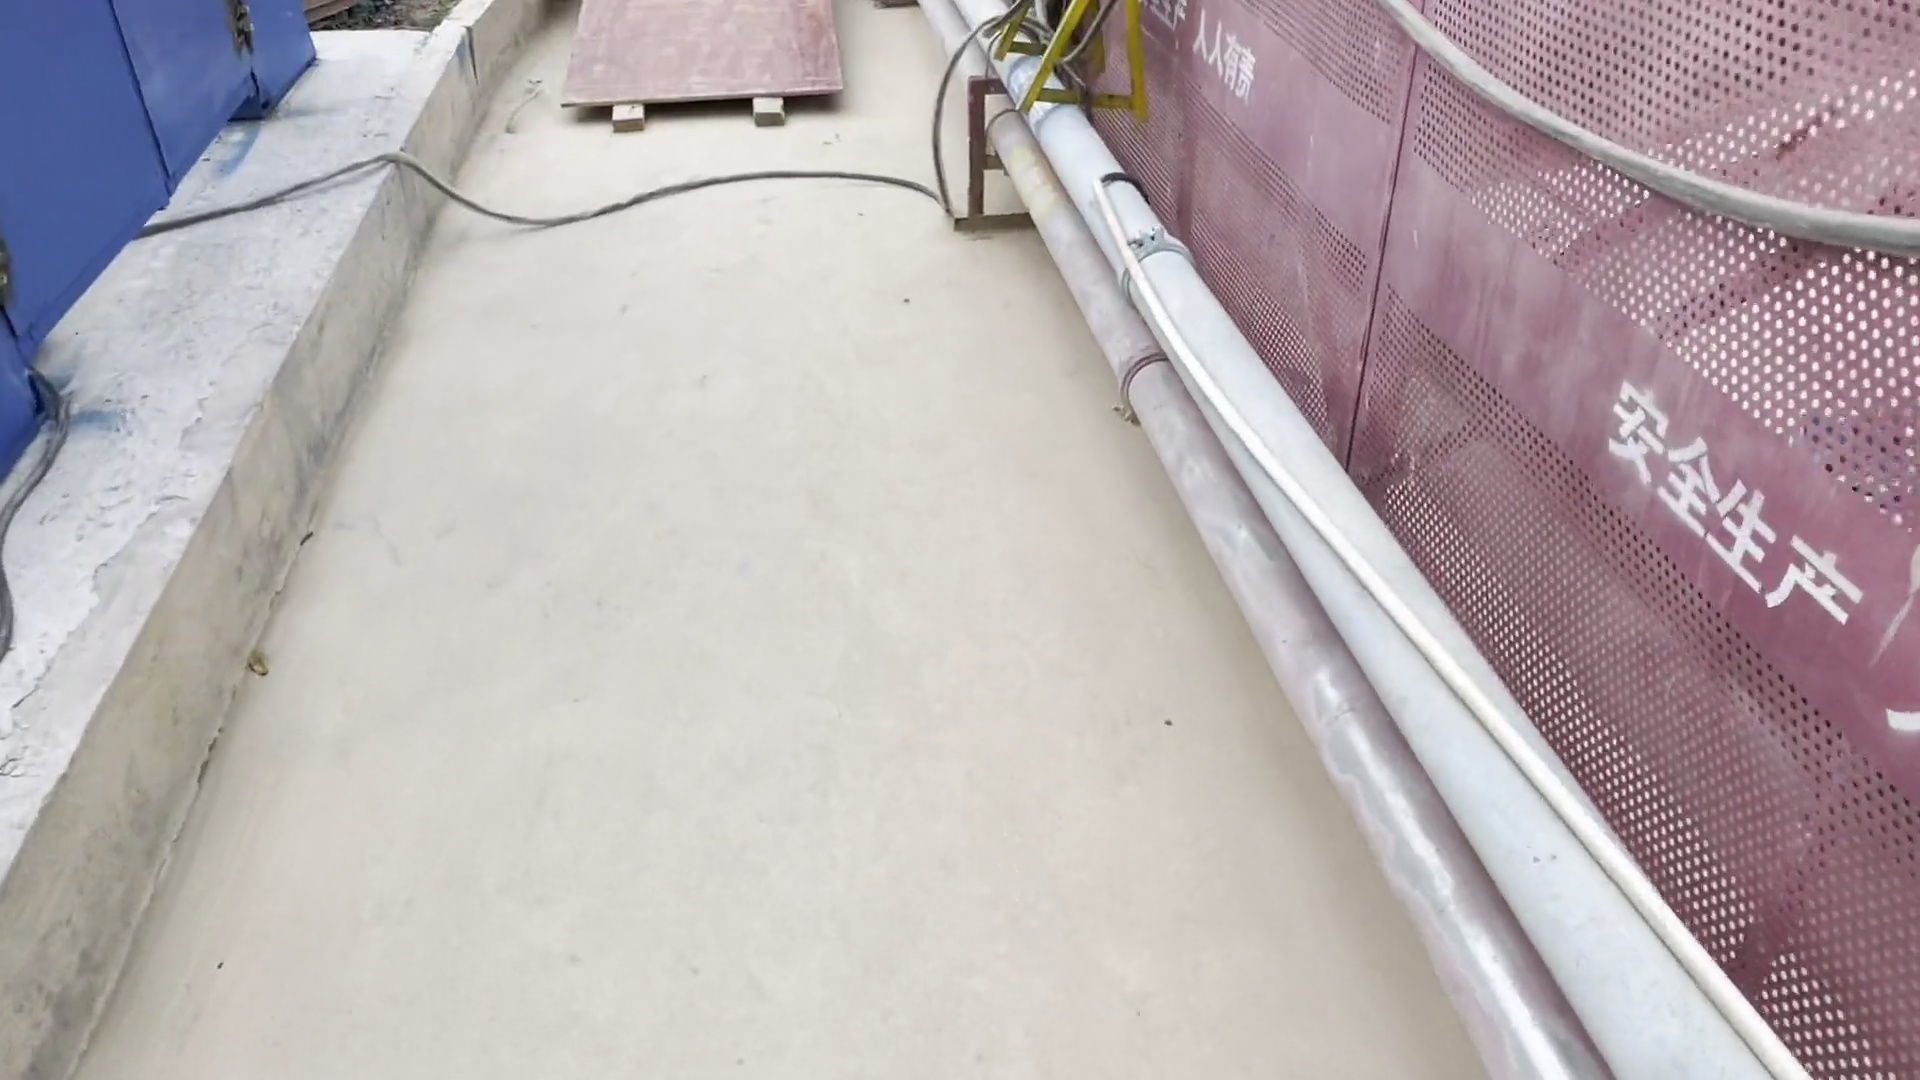board: (531, 1, 868, 149)
fence: (1345, 4, 1920, 1029)
